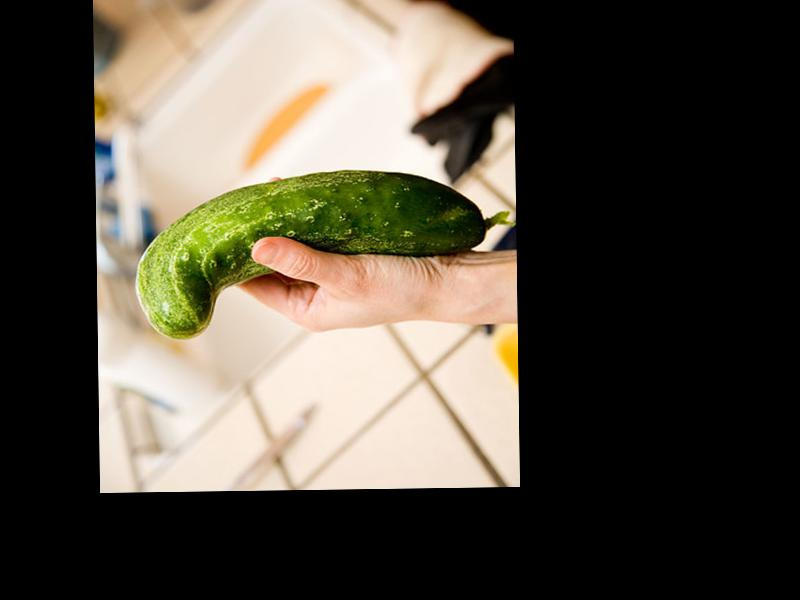Cucumber: (133, 166, 511, 339)
